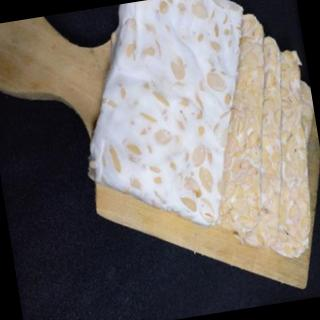Tempe: (59, 1, 320, 289)
